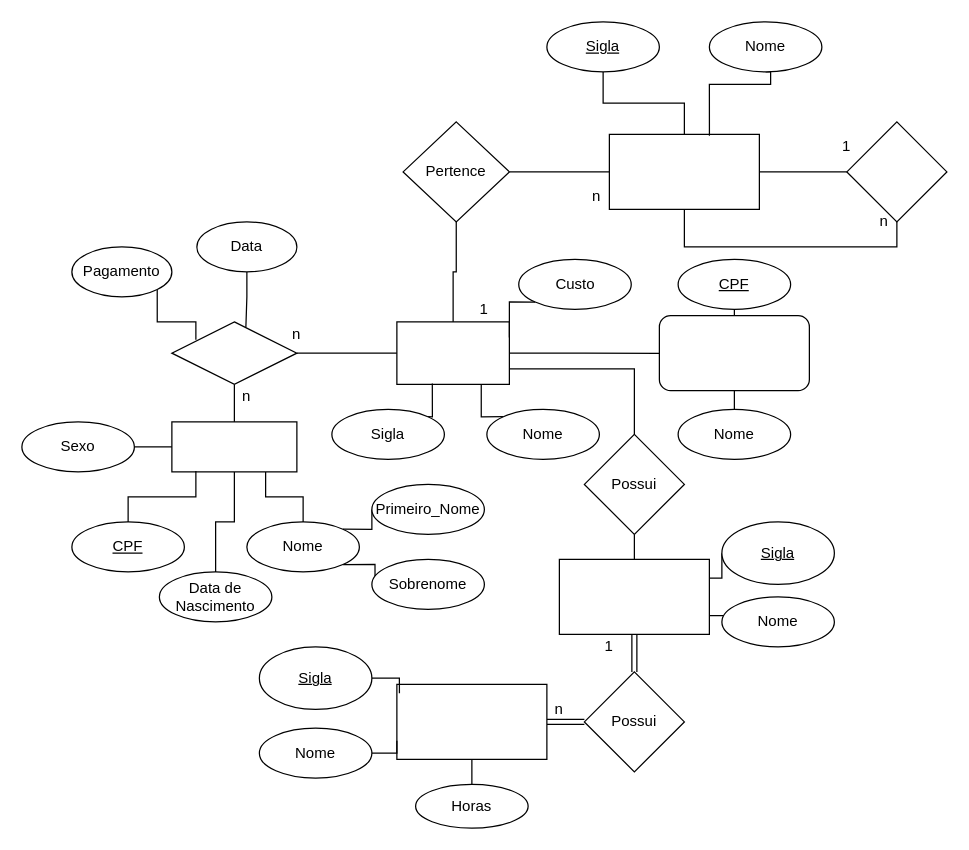
Image size: 969x850. Some labels were removed from this diagram. The box of each missing label's shape, as (x1, y1, x2, y2) in pixels:
Aluno: (171, 421, 297, 472)
Curso: (396, 321, 509, 384)
Integra: (846, 121, 947, 222)
Matrícula: (171, 321, 297, 384)
Módulo: (558, 558, 709, 634)
Professores: (658, 314, 809, 391)
Tópico: (396, 683, 547, 759)
Área: (608, 133, 759, 209)
